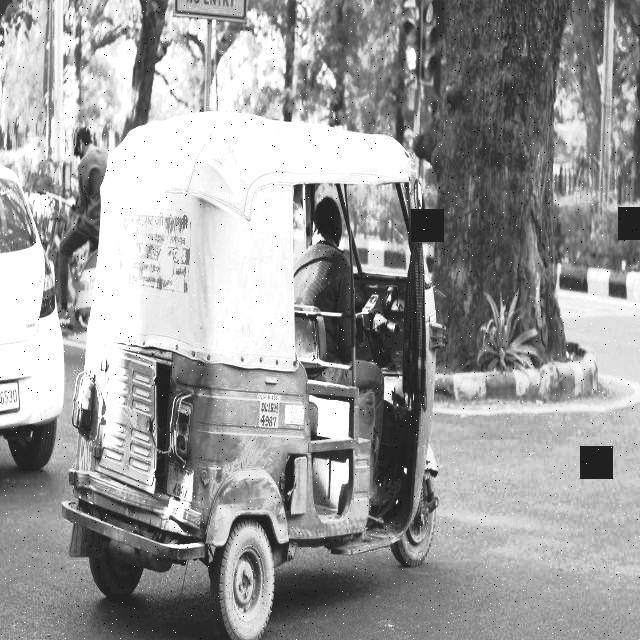Auto-Rickshaw: (72, 122, 458, 636)
